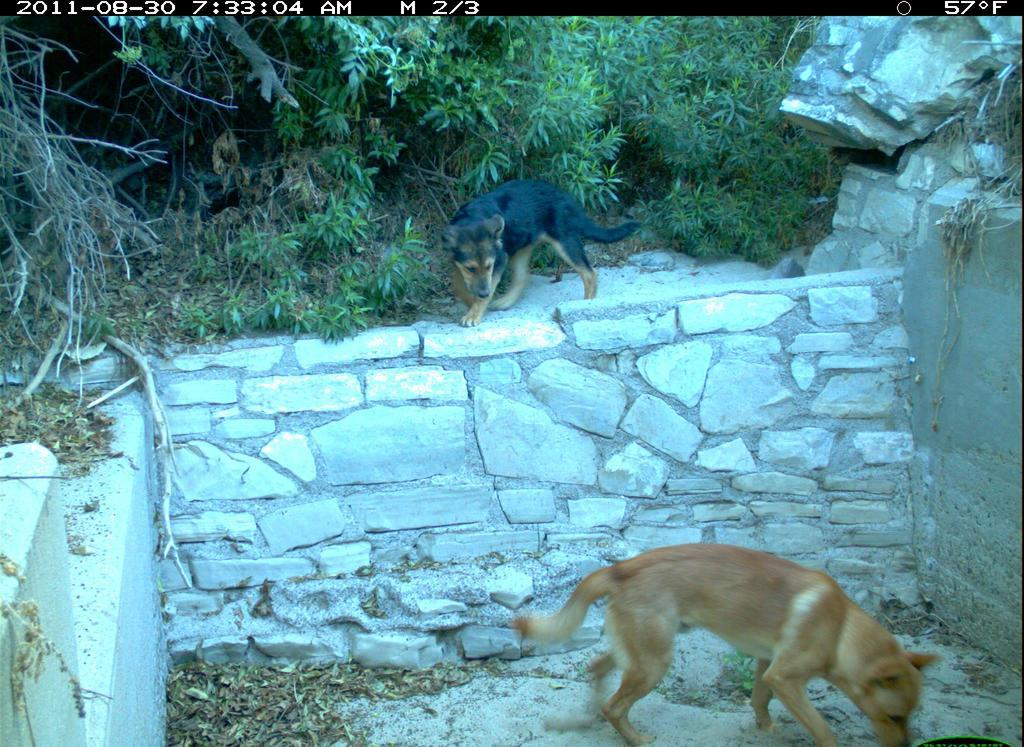dog: (513, 536, 940, 740), (436, 178, 647, 333)
